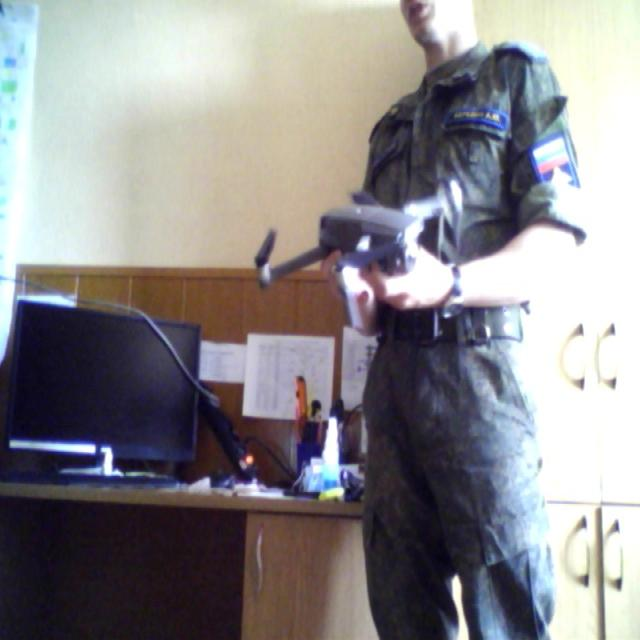drone: (252, 174, 472, 318)
